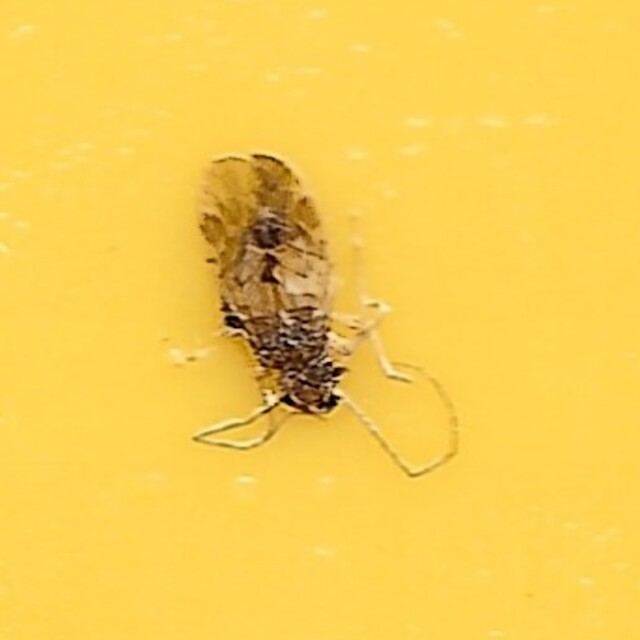Plecoptera: (187, 152, 453, 488)
